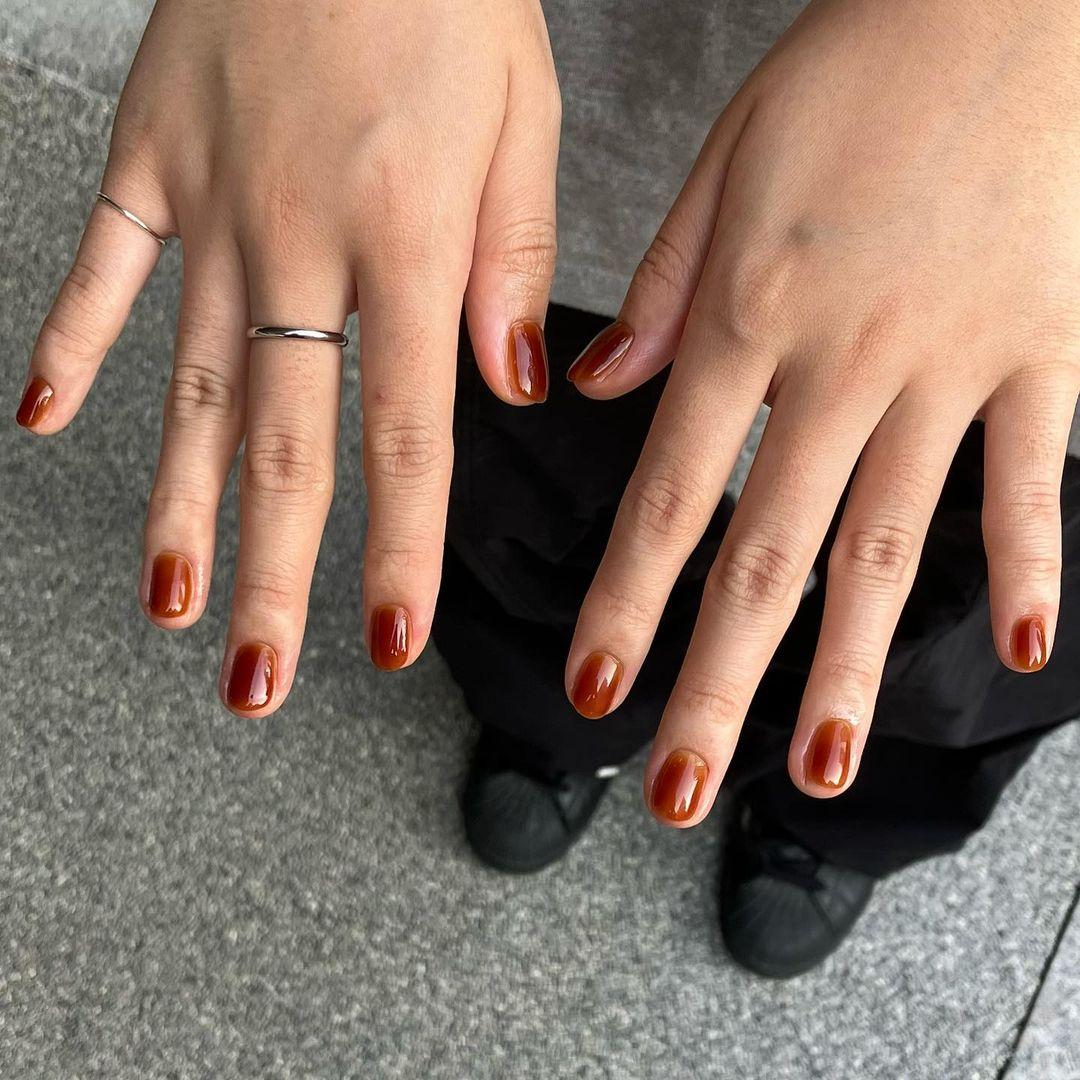nail: (647, 747, 708, 825), (566, 320, 634, 386), (567, 649, 622, 719), (225, 640, 276, 713), (803, 718, 852, 791), (145, 550, 194, 620), (508, 319, 549, 402), (369, 603, 411, 670), (1009, 613, 1046, 672), (246, 324, 348, 344), (15, 375, 53, 428)
